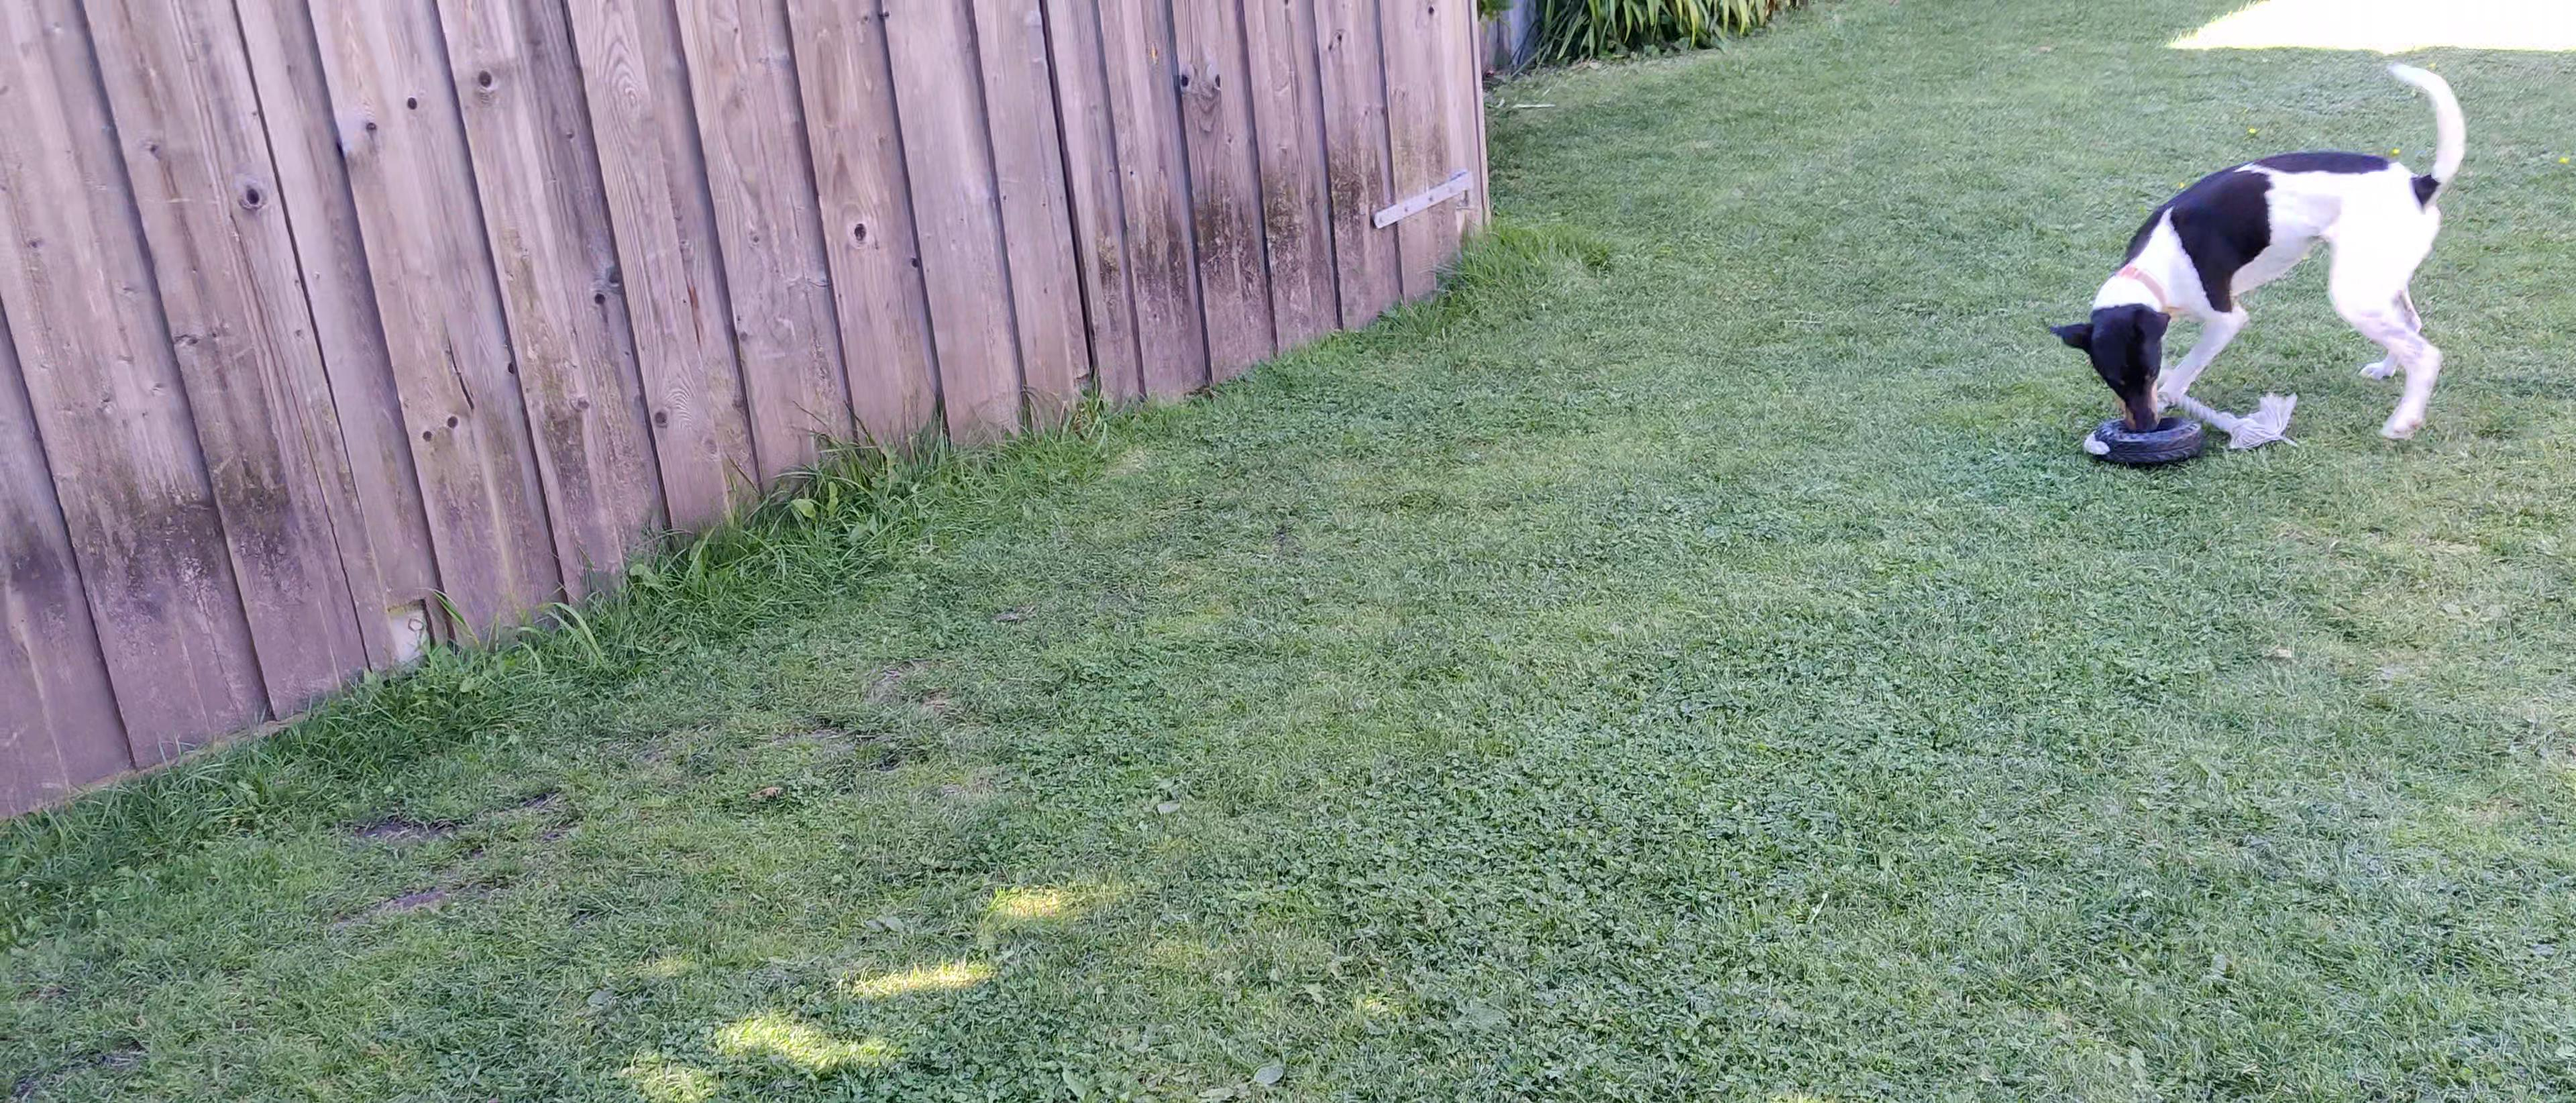Dog: (2044, 36, 2484, 459)
